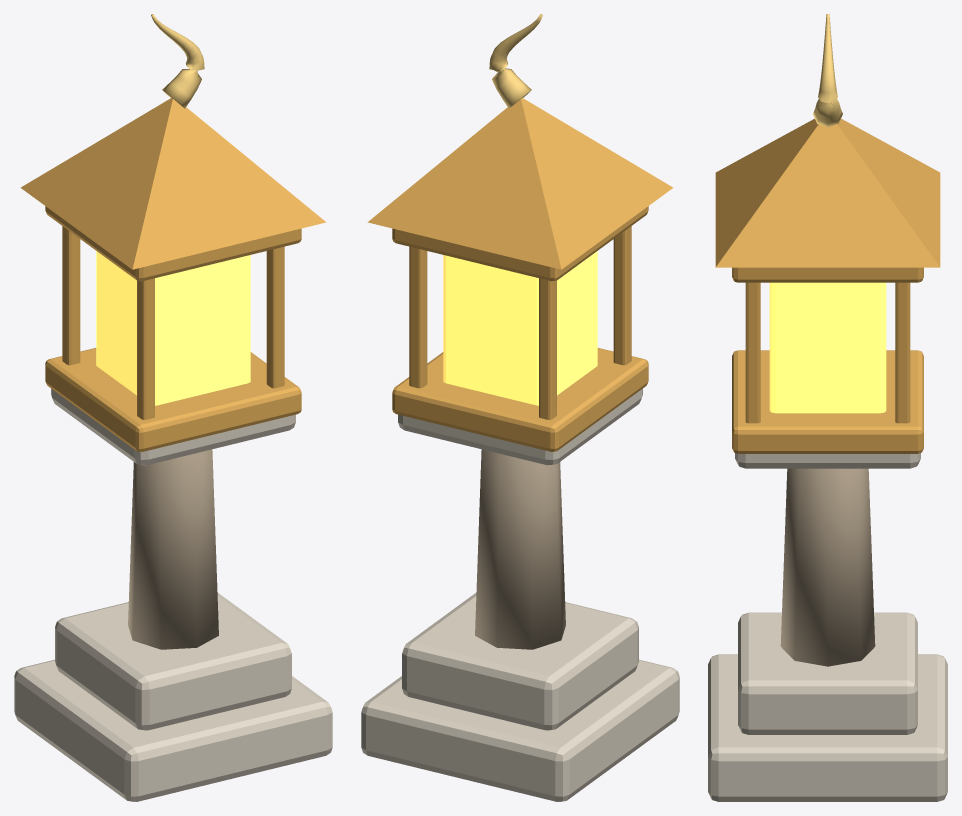
Rendered from lantern.glb.
The picture shows the model from 3 angles, left to right: view 1: azimuth 30°, elevation 25°; view 2: azimuth 150°, elevation 25°; view 3: azimuth 270°, elevation 25°; orthographic projection.
Visible parts, largest first — view 1: lantern / Antique warm gold, lantern / Warm carved limestone, lantern / Amber lantern glass, lantern / Sandstone plinth, lantern / Raised gold ornament; view 2: lantern / Antique warm gold, lantern / Warm carved limestone, lantern / Amber lantern glass, lantern / Sandstone plinth, lantern / Raised gold ornament; view 3: lantern / Antique warm gold, lantern / Warm carved limestone, lantern / Sandstone plinth, lantern / Amber lantern glass, lantern / Raised gold ornament.
Part boxes in pixels (x1,y1,x2,y2): lantern / Antique warm gold: (20, 98, 326, 451); lantern / Warm carved limestone: (14, 388, 332, 801); lantern / Amber lantern glass: (96, 251, 250, 405); lantern / Sandstone plinth: (128, 449, 218, 649); lantern / Raised gold ornament: (151, 14, 204, 108); lantern / Antique warm gold: (367, 98, 673, 451); lantern / Warm carved limestone: (361, 388, 679, 801); lantern / Amber lantern glass: (443, 251, 597, 405); lantern / Sandstone plinth: (475, 449, 565, 649); lantern / Raised gold ornament: (489, 14, 542, 108); lantern / Antique warm gold: (715, 118, 940, 453); lantern / Warm carved limestone: (708, 453, 947, 801); lantern / Sandstone plinth: (780, 468, 875, 666); lantern / Amber lantern glass: (769, 282, 886, 413); lantern / Raised gold ornament: (813, 14, 842, 127).
Size of the model in its own units: 0.8 by 2.69 by 0.8.
